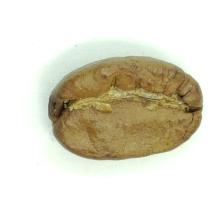NG: (61, 63, 195, 147)
